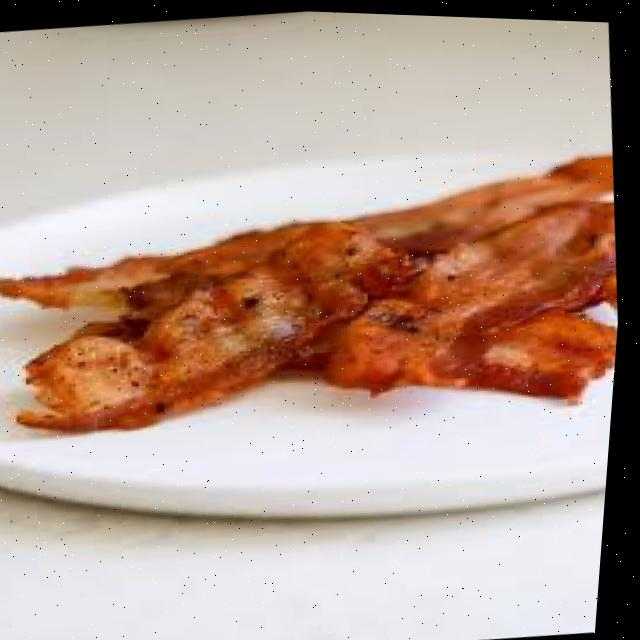Bacon: (28, 221, 412, 424), (331, 296, 622, 396), (358, 151, 613, 248)
